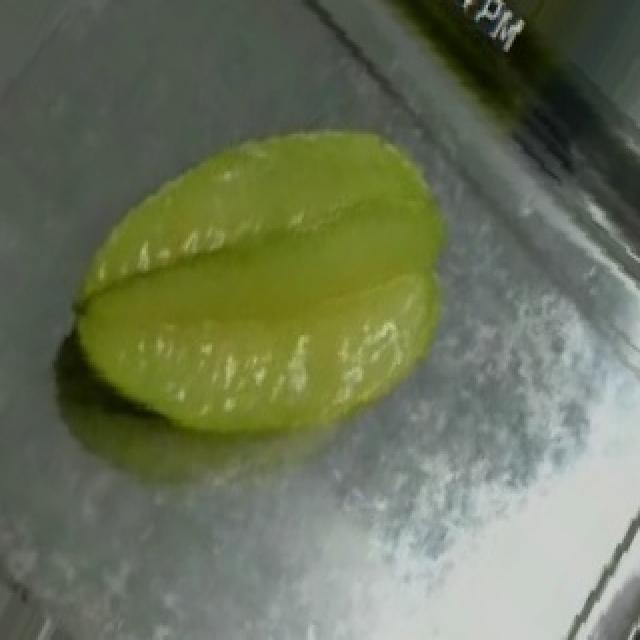fruit: (72, 70, 520, 501)
